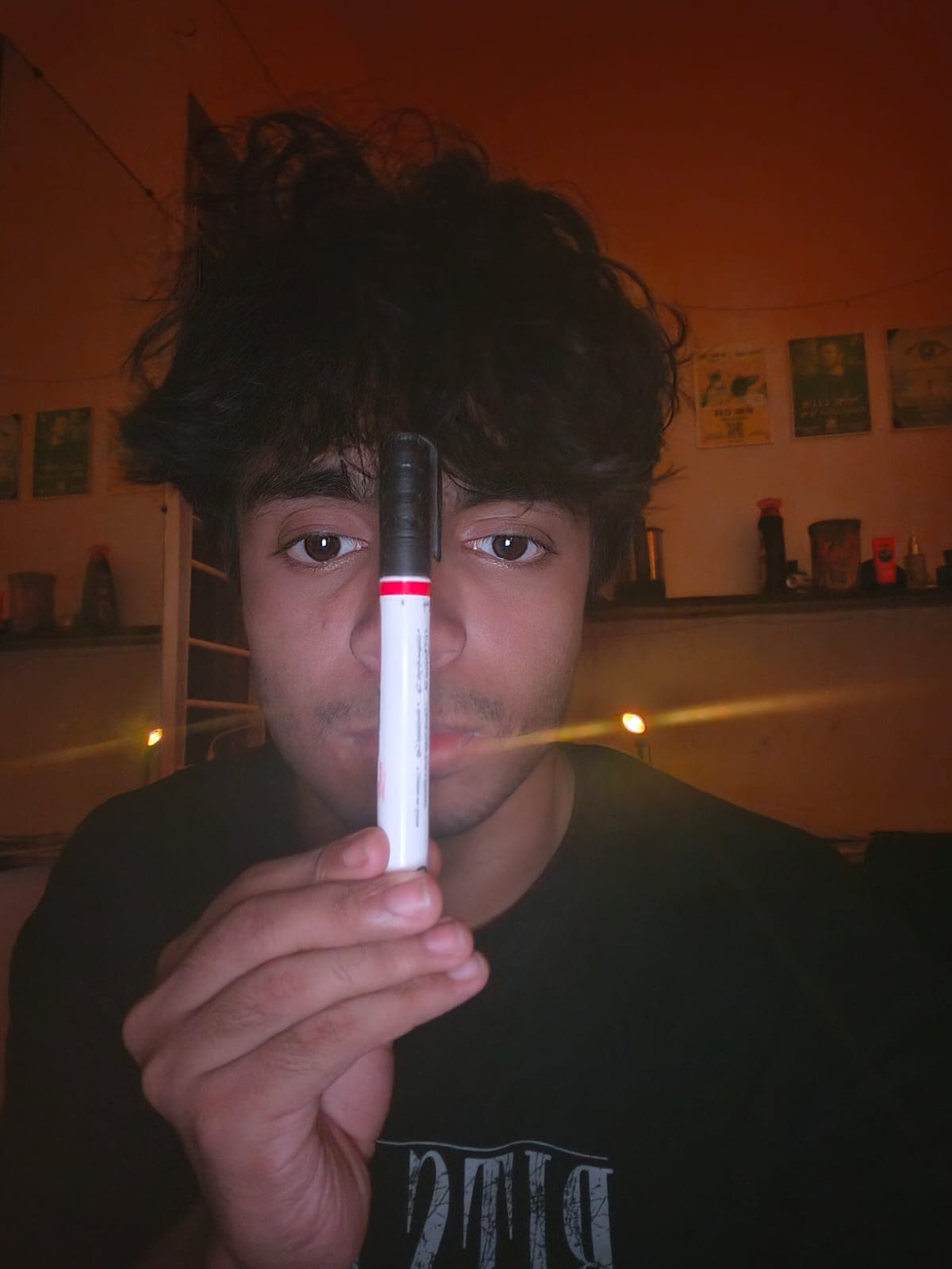case: (362, 420, 461, 888)
